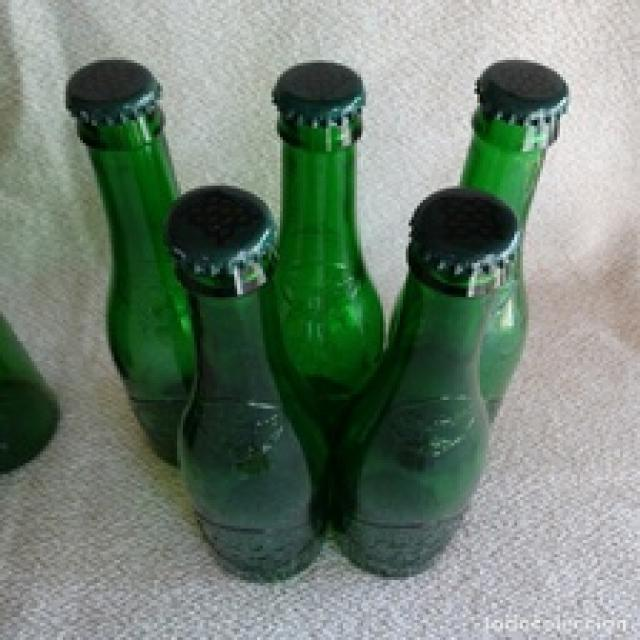Glass: (329, 298, 487, 582), (178, 280, 326, 582), (72, 149, 199, 467), (270, 142, 384, 426)
